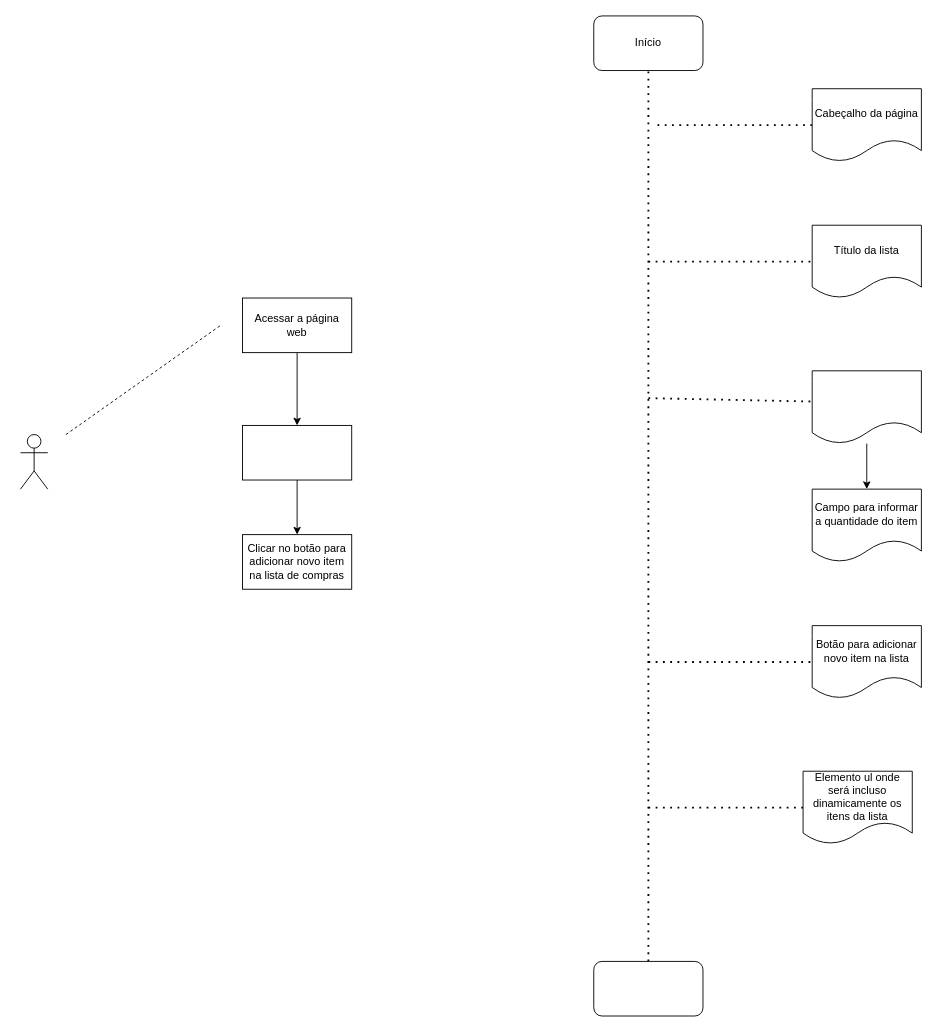
Image size: 937x1032. Some labels were removed from this diagram. Each missing label, with the centre of its shape:
Campo para informar nome do item: the point at 866,407
Fim: the point at 648,988
Preencher os campos indicados: the point at 297,452
Usuário: the point at 34,461
